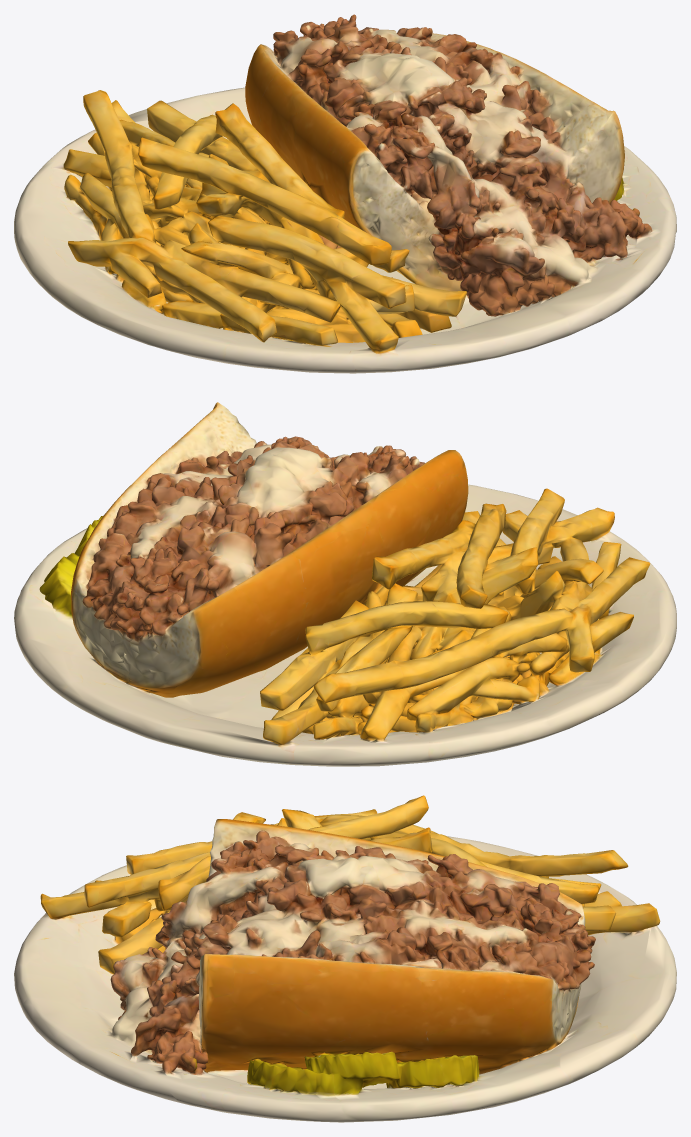
The model's file is cheesesteak-special-v2.glb.
3 renders of one model, top to bottom at view 1: azimuth 30°, elevation 25°; view 2: azimuth 150°, elevation 25°; view 3: azimuth 270°, elevation 25°, orthographic.
Parts seen in each view (by area): view 1: Mesh_0; view 2: Mesh_0; view 3: Mesh_0.
Boxes of the visible parts, bbox=[...] form: Mesh_0: bbox=[14, 14, 676, 373]; Mesh_0: bbox=[14, 402, 676, 766]; Mesh_0: bbox=[14, 795, 676, 1122].
Bounding box in the file's own units: 0.3521 × 0.1197 × 0.3523.
Materials: 1 (1 with a texture image).
